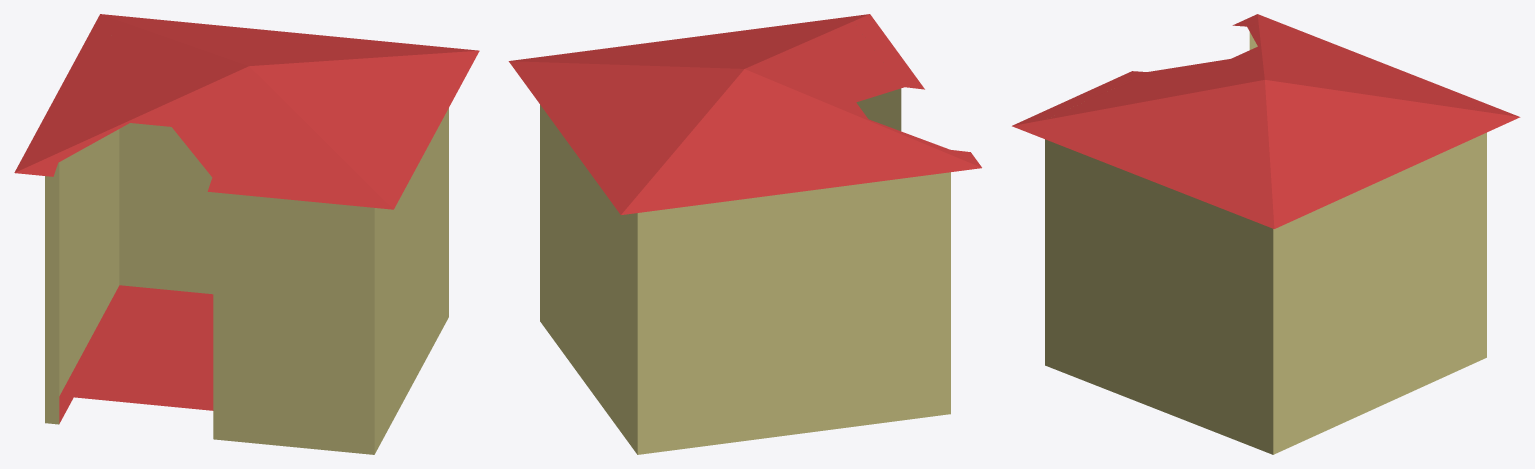
The picture shows the model from 3 angles, left to right: view 1: azimuth 30°, elevation 25°; view 2: azimuth 150°, elevation 25°; view 3: azimuth 270°, elevation 25°; orthographic projection. The views are drawn at different scales.
Size of the model in its own units: 16.01 by 16.01 by 9.8.
